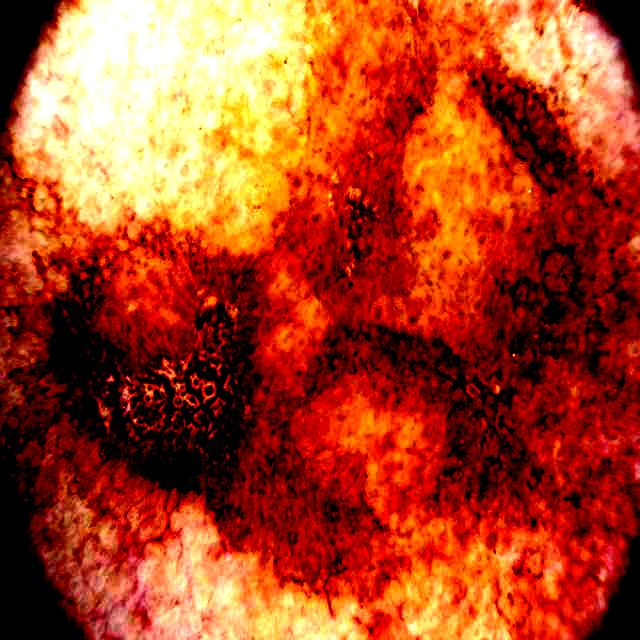AKIEC: (92, 3, 590, 597)
